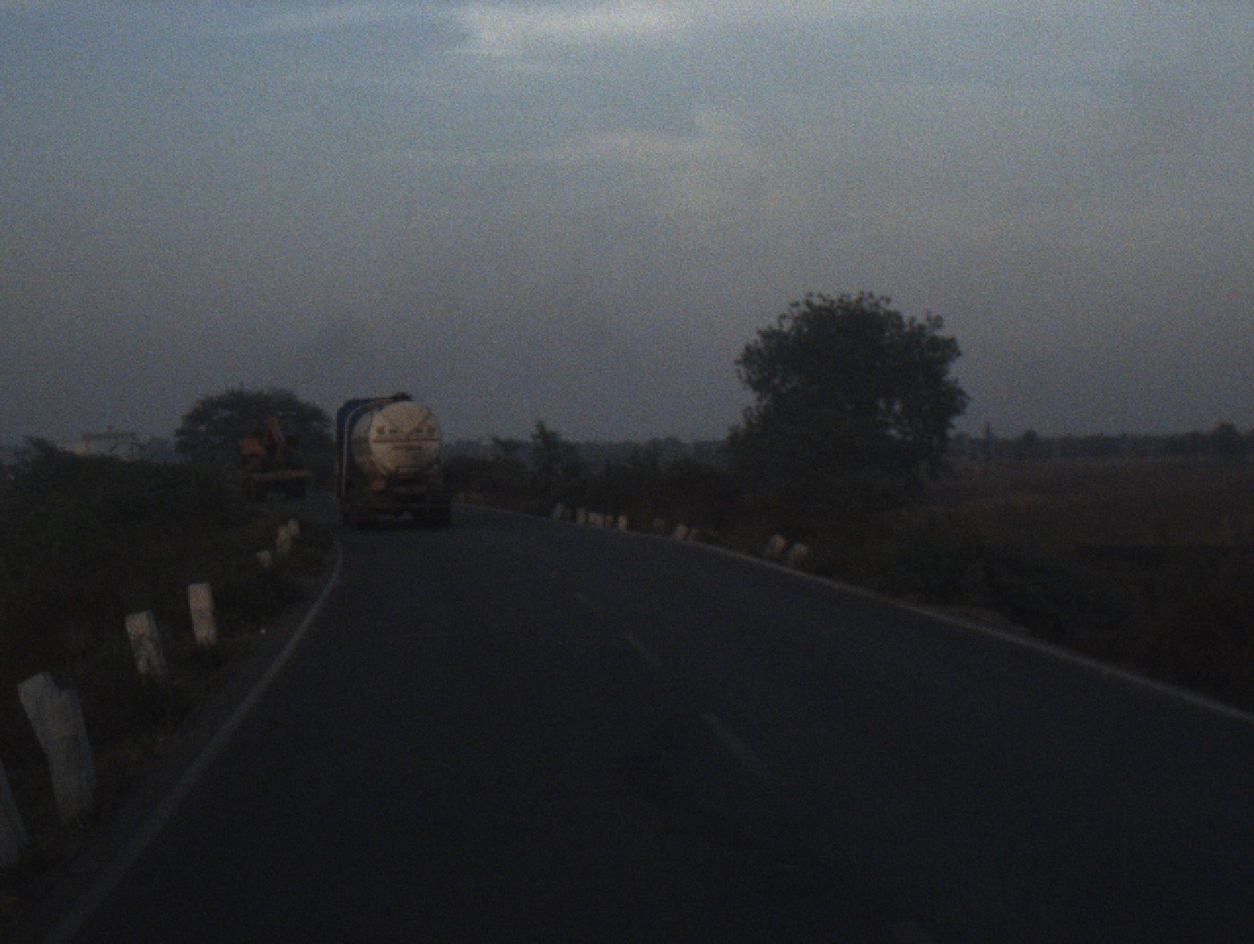truck: (322, 388, 458, 535)
vehicle fallback: (229, 405, 318, 502)
